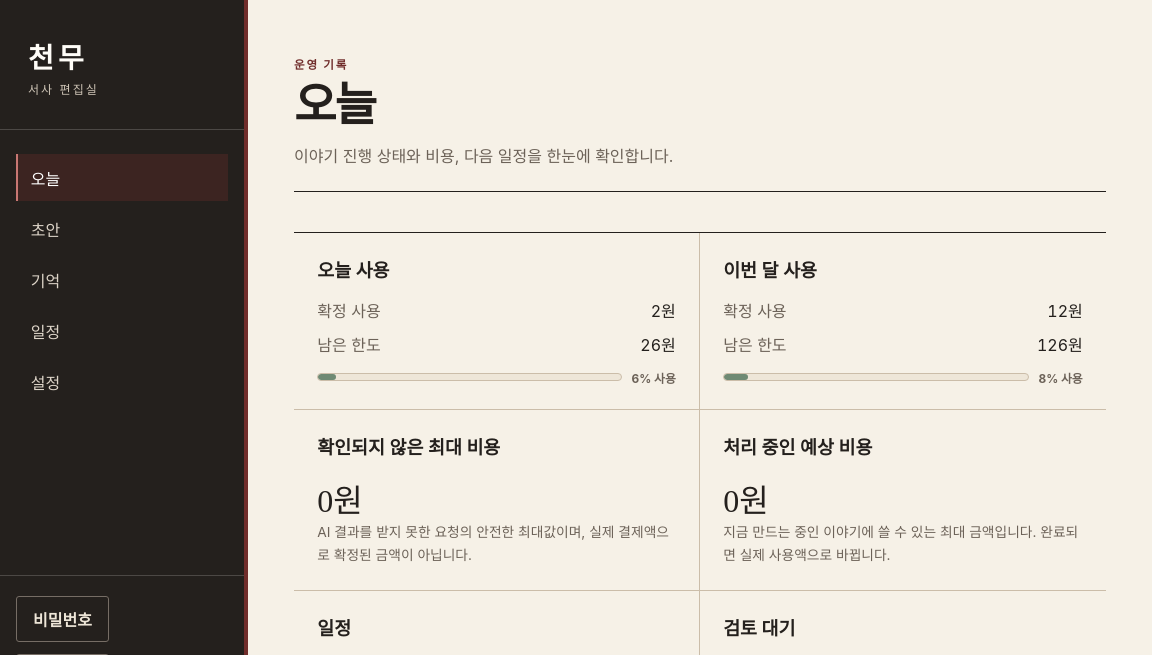
Test case: AdminApp local preview composition › lets the signed-in owner replace a temporary password
Click the button with aria-label "비밀번호 변경".
click(62, 619)  # box [16,596,109,642]
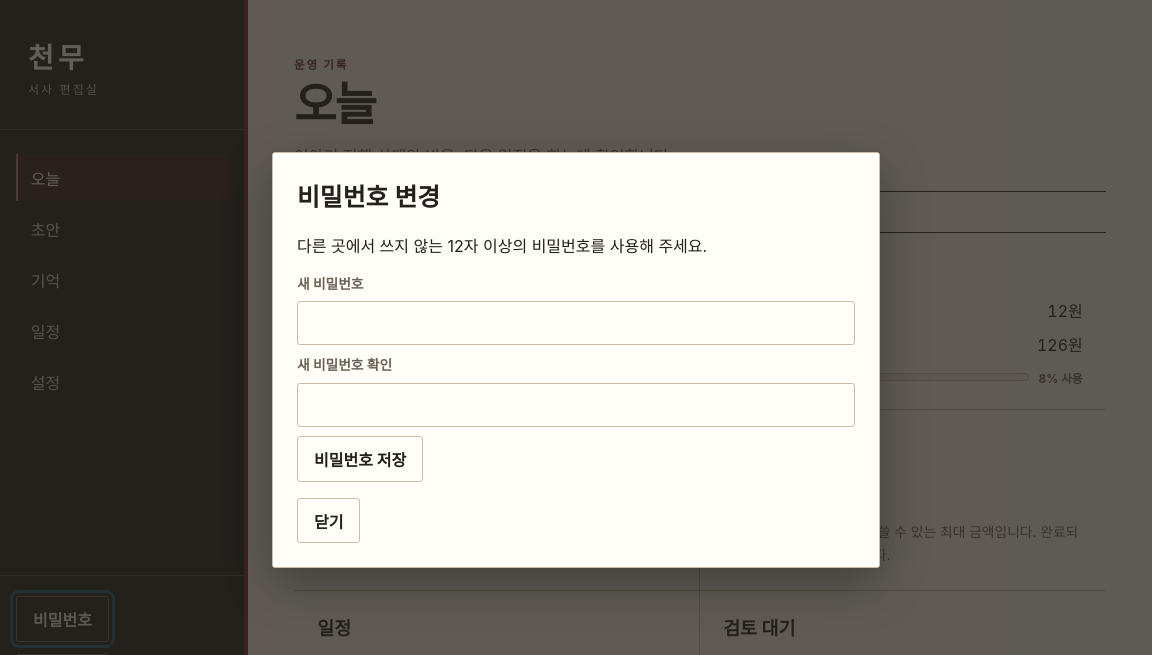
Type "new-secure-password" into the password field labelled "새 비밀번호".
click(576, 323); type("new-secure-password")  # box [297,301,855,345]
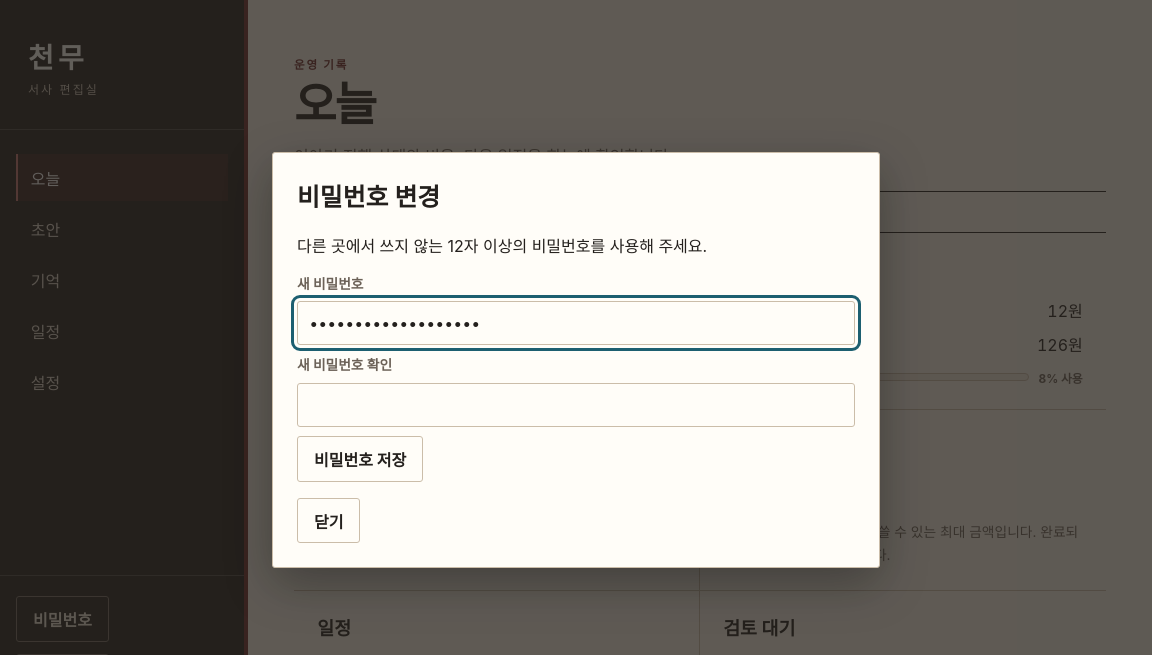
Type "new-secure-password" into the password field labelled "새 비밀번호 확인".
click(576, 405); type("new-secure-password")  # box [297,383,855,427]
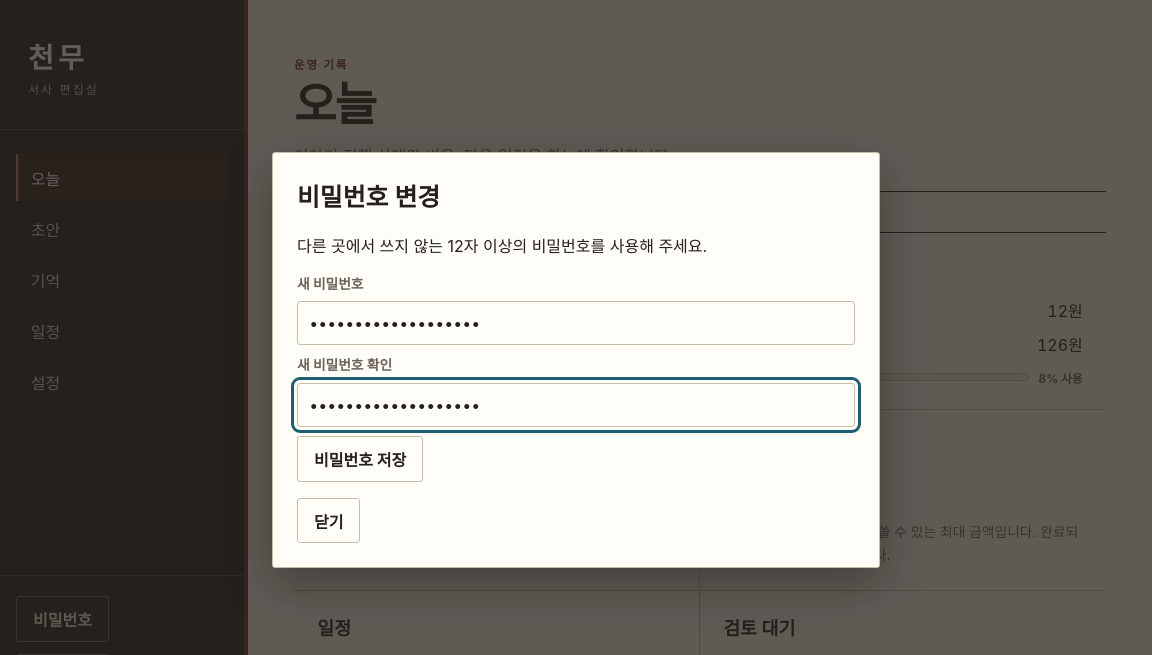
Click the button "비밀번호 저장".
click(360, 459)  # box [297,436,423,482]
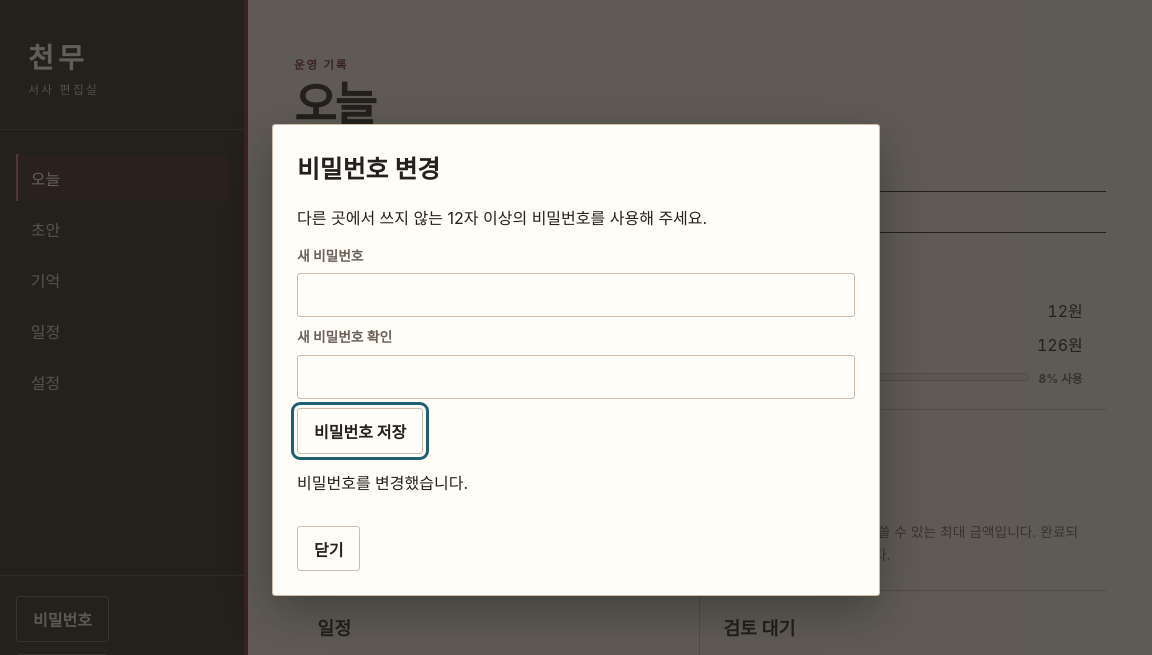
Expected: the message reads "비밀번호를 변경했습니다.", [297,473,468,493]
